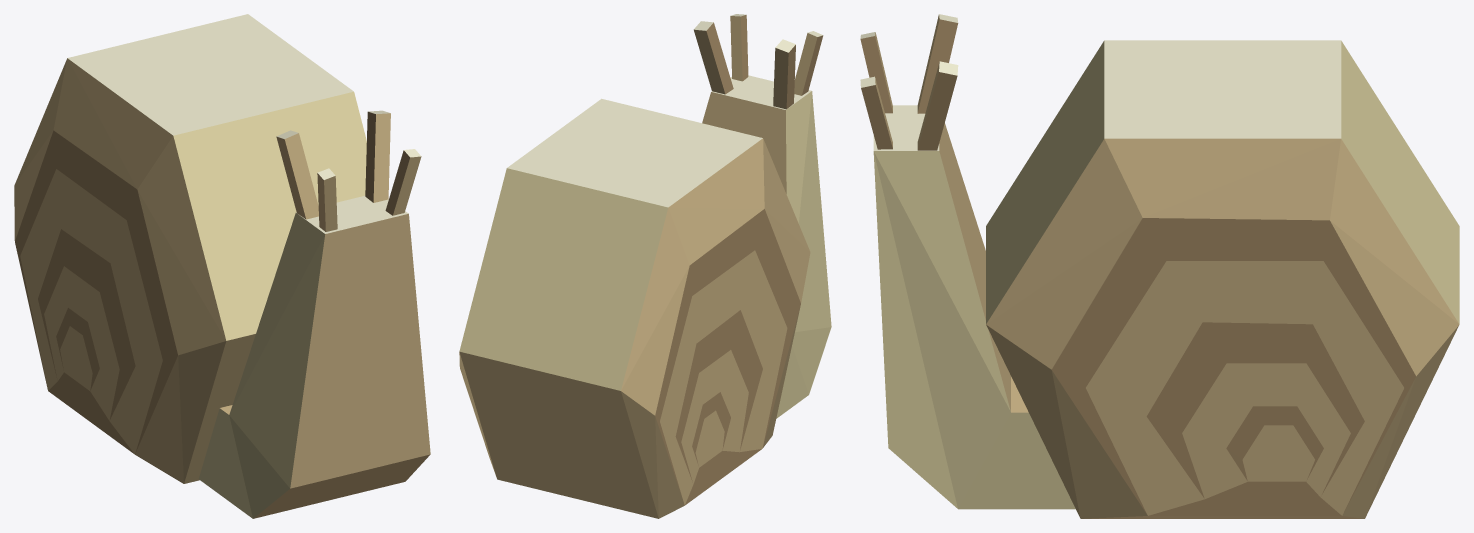
Rendered from TB_CITY_Prop_Snail.FBX.
3 views of the same model, side by side, from view 1: azimuth 30°, elevation 25°; view 2: azimuth 150°, elevation 25°; view 3: azimuth 270°, elevation 25° (orthographic). The views are drawn at different scales.
Parts seen in each view (by area): view 1: TB_CITY_Prop_Snail; view 2: TB_CITY_Prop_Snail; view 3: TB_CITY_Prop_Snail.
Part boxes in pixels (x1,y1,x2,y2): TB_CITY_Prop_Snail: [14, 14, 430, 518]; TB_CITY_Prop_Snail: [459, 14, 831, 518]; TB_CITY_Prop_Snail: [860, 14, 1459, 518].
Bounding box in the file's own units: 1.21 × 2.04 × 2.58.
